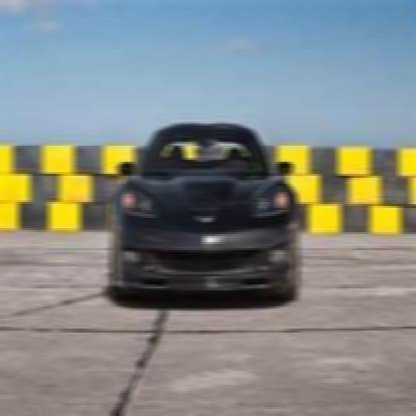Vehicle: (106, 119, 302, 316)
